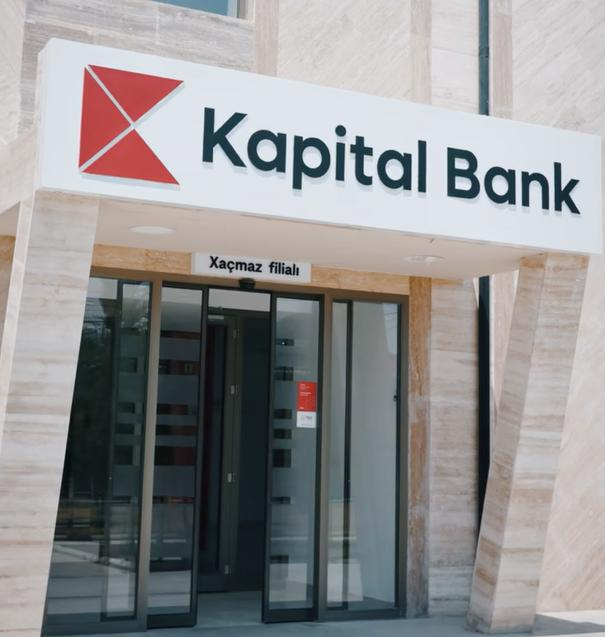Kapital Bank: (73, 61, 190, 187)
